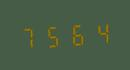five: (41, 21, 63, 50)
four: (87, 18, 109, 46)
seven: (18, 23, 40, 51)
six: (64, 20, 86, 48)
